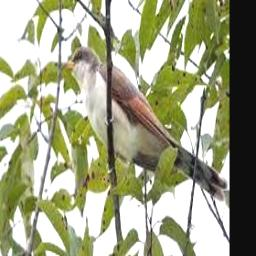Cuckoo: (58, 46, 227, 203)
